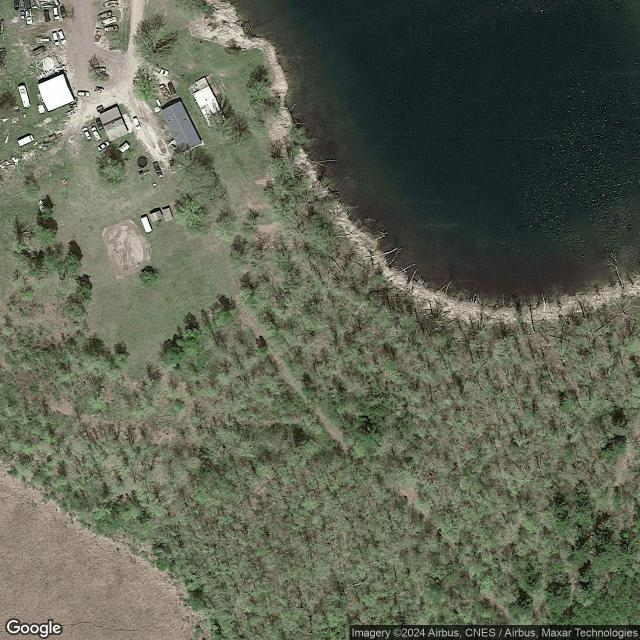Propane: (155, 97, 163, 108)
